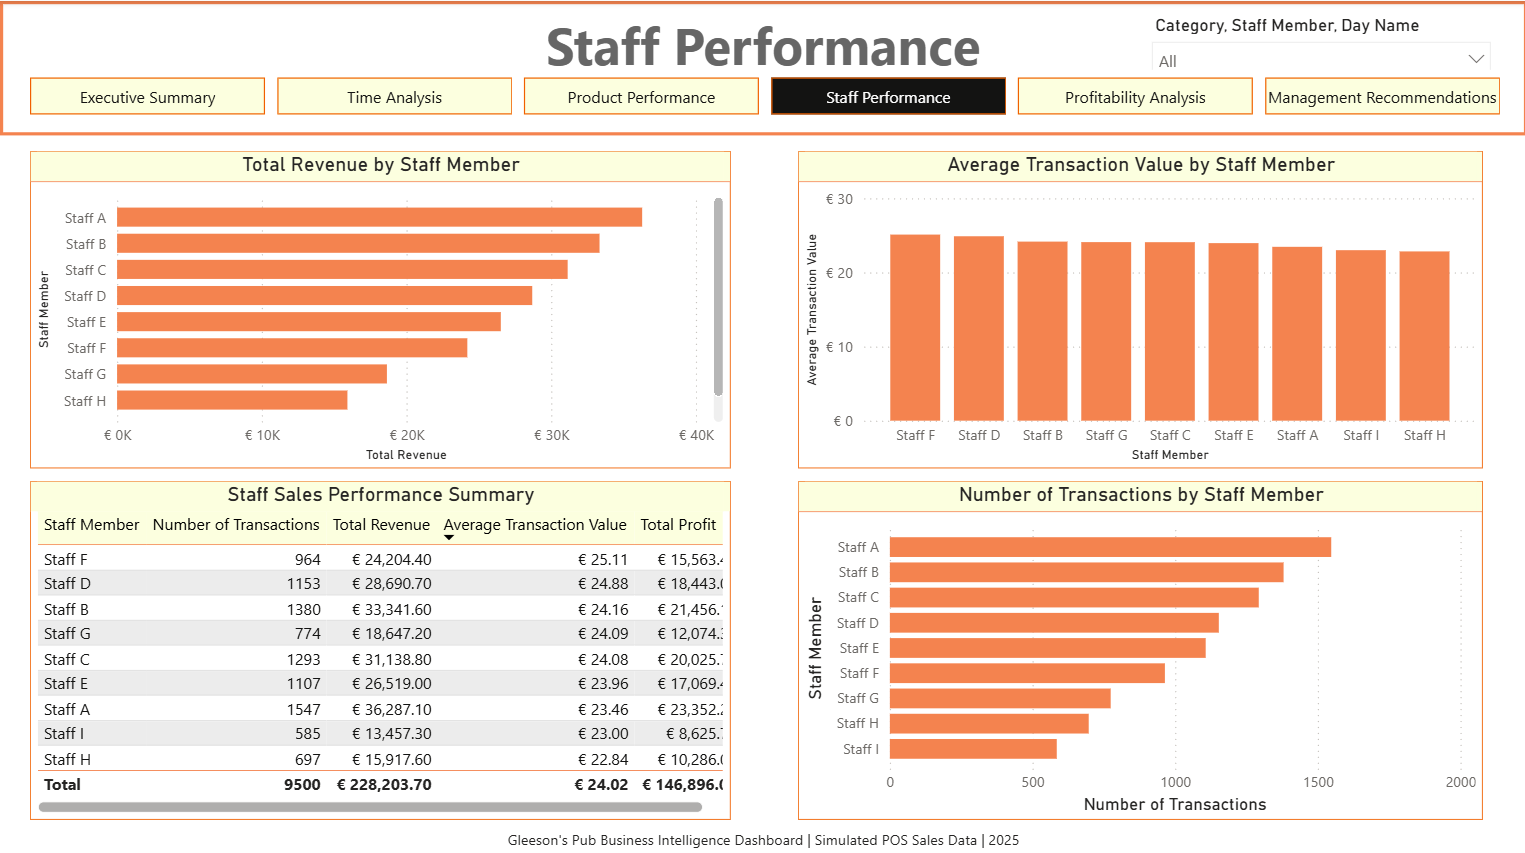

Layout of this report page (visuals, bound fields, positions):
{"tool":"powerbi","page":{"name":"Staff Performance","canvas":[1280,720],"ordinal":3},"visuals":[{"type":"barChart","fields":{"Y":["pub_sales_data.Total Revenue"],"Category":["pub_sales_data.Staff Member"]},"box":[25.7,125.7,587.1,265.7],"z":0},{"type":"barChart","fields":{"Y":["pub_sales_data.Number of Transactions"],"Category":["pub_sales_data.Staff Member"]},"box":[668.6,402.9,574.3,284.3],"z":1000},{"type":"columnChart","fields":{"Category":["pub_sales_data.Staff Member"],"Y":["pub_sales_data.Average Transaction Value"]},"box":[668.6,125.7,574.3,265.7],"z":2000},{"type":"tableEx","title":"Staff Sales Performance Summary","fields":{"Values":["pub_sales_data.Staff Member","pub_sales_data.Number of Transactions","pub_sales_data.Total Revenue","pub_sales_data.Average Transaction Value","pub_sales_data.Total Profit"]},"box":[25.7,402.9,587.1,284.3],"z":3000},{"type":"textbox","box":[0,0,1280,112.9],"z":4000},{"type":"slicer","fields":{"Values":["pub_sales_data.Category","pub_sales_data.Staff Member","pub_sales_data.Day Name"]},"box":[955.7,5.7,304.3,51.4],"z":5000},{"type":"textbox","box":[0,687.1,1280,32.9],"z":6000},{"type":"pageNavigator","box":[25.7,64.3,1234.3,31.4],"z":7000}]}

Visuals, with their boxes in screenshot pixels (x1, y1, x2, y2), scaled from the page's 1280x720 canvas onto the 1525x853 screenshot:
barChart - pub_sales_data.Total Revenue x pub_sales_data.Staff Member: bbox=[31, 149, 730, 464]
barChart - pub_sales_data.Number of Transactions x pub_sales_data.Staff Member: bbox=[797, 477, 1481, 814]
columnChart - pub_sales_data.Staff Member x pub_sales_data.Average Transaction Value: bbox=[797, 149, 1481, 464]
"Staff Sales Performance Summary" tableEx: bbox=[31, 477, 730, 814]
textbox: bbox=[0, 0, 1524, 134]
slicer - pub_sales_data.Category x pub_sales_data.Staff Member: bbox=[1139, 7, 1501, 68]
textbox: bbox=[0, 814, 1524, 852]
pageNavigator: bbox=[31, 76, 1501, 113]
